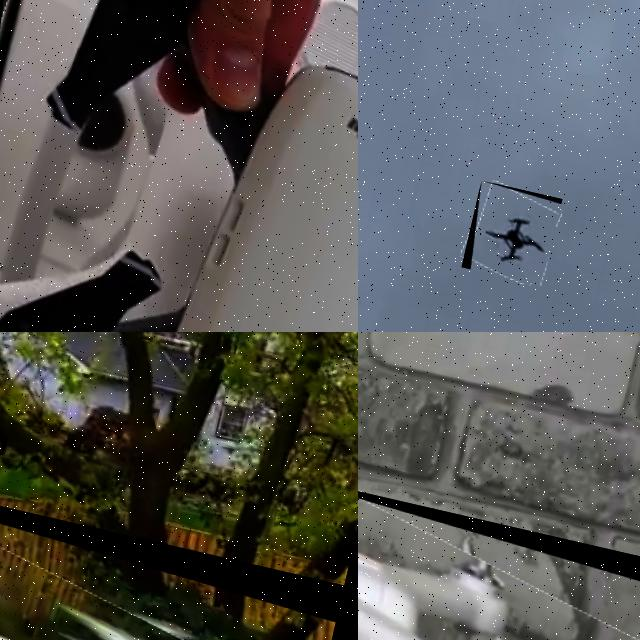drone: (0, 0, 358, 332), (0, 441, 343, 640), (358, 465, 640, 640), (461, 180, 562, 286)
